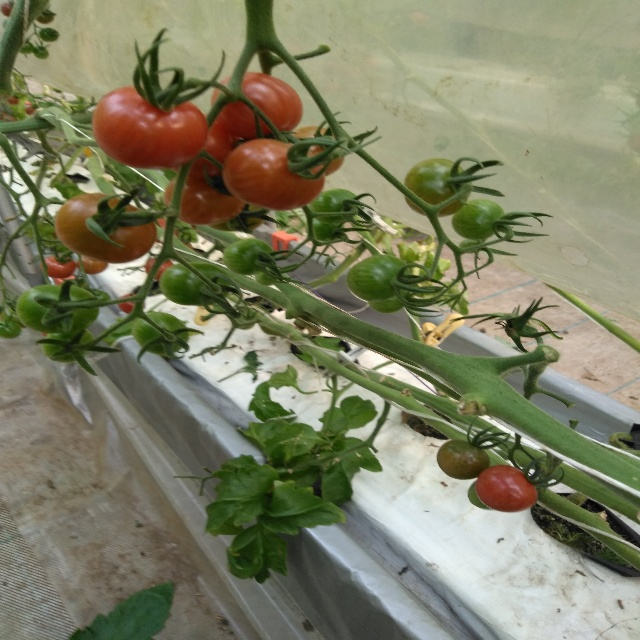l_fully_ripened: (91, 84, 209, 169), (211, 71, 303, 140), (170, 112, 244, 178), (476, 465, 537, 513), (38, 255, 76, 279)
l_green: (15, 285, 99, 335), (403, 158, 471, 218), (159, 262, 231, 306), (347, 254, 411, 302), (130, 312, 189, 355), (451, 199, 506, 241), (41, 328, 95, 364), (306, 187, 358, 224), (223, 238, 275, 275), (367, 288, 410, 314), (306, 216, 346, 240), (467, 481, 495, 510), (255, 268, 279, 285)
l_half_ripened: (221, 138, 326, 211), (55, 193, 158, 264), (164, 174, 246, 226), (279, 126, 344, 176), (437, 439, 490, 480), (206, 202, 269, 232), (75, 256, 108, 275)
